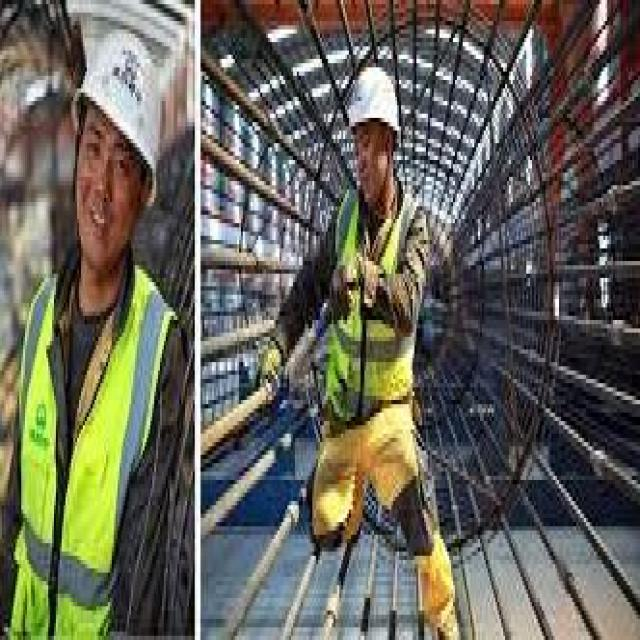Reflective-Jacket: (10, 265, 177, 640), (316, 177, 428, 455)
Safety-Helmet: (73, 25, 166, 181), (343, 59, 405, 143)
